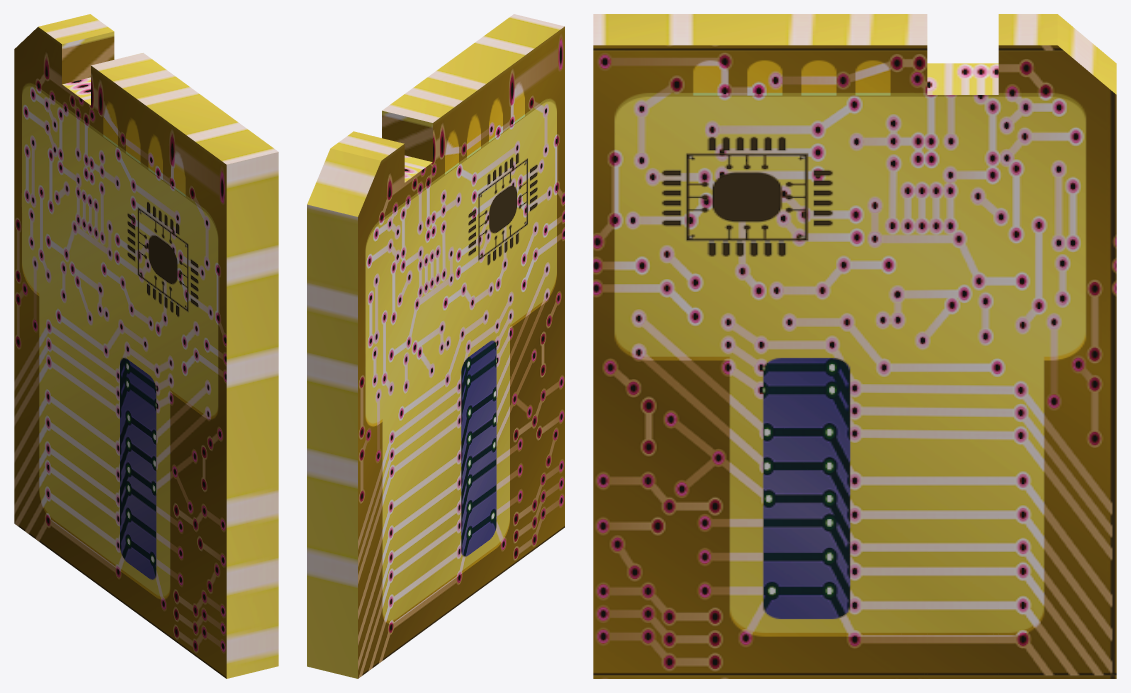
The model's file is keycard_yellow.glb.
The picture shows the model from 3 angles, left to right: view 1: azimuth 30°, elevation 25°; view 2: azimuth 150°, elevation 25°; view 3: azimuth 270°, elevation 25°; orthographic projection. The views are drawn at different scales.
Visible parts, largest first — view 1: Cube; view 2: Cube; view 3: Cube.
Boxes of the visible parts, x1,y1,x2,y2 form: Cube: [14, 14, 278, 678]; Cube: [307, 14, 564, 678]; Cube: [593, 14, 1116, 678].
Bounding box in the file's own units: 0.2926 × 2.75 × 2.06.
Materials: 1 (1 with a texture image).
